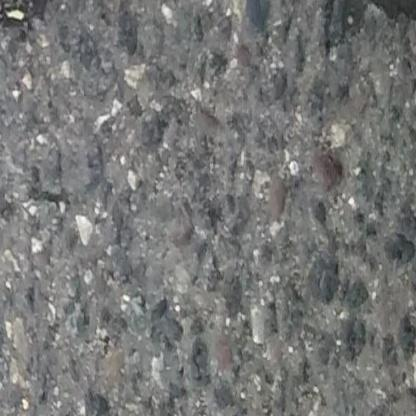Cracks: (319, 0, 416, 54), (0, 0, 70, 67), (115, 0, 150, 7)
